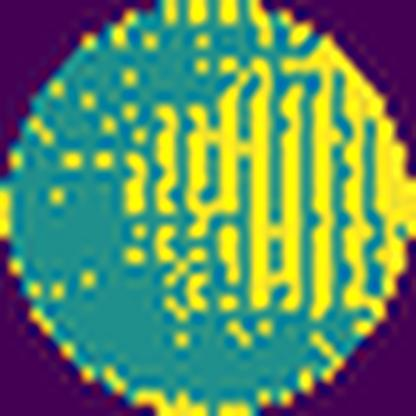Random: (100, 0, 415, 326)
